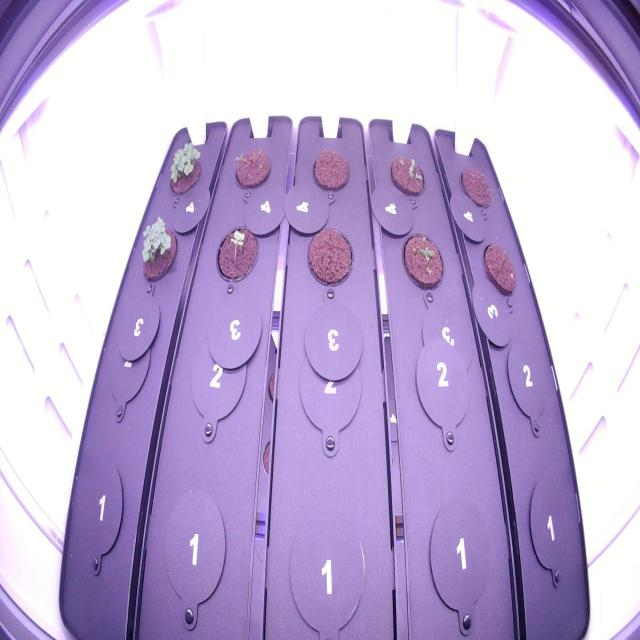empty_pod: (280, 502, 370, 622), (421, 488, 498, 619), (156, 487, 233, 601), (294, 341, 364, 437), (409, 338, 475, 438), (522, 470, 580, 580), (185, 331, 252, 426), (72, 459, 130, 558), (501, 337, 558, 424), (102, 328, 152, 411)
germination: (133, 209, 182, 294), (210, 215, 262, 291), (398, 221, 448, 299), (164, 132, 209, 206), (228, 135, 275, 200), (384, 146, 430, 204)
pod: (300, 220, 360, 292), (476, 229, 521, 304), (454, 154, 497, 217), (306, 140, 352, 198)
